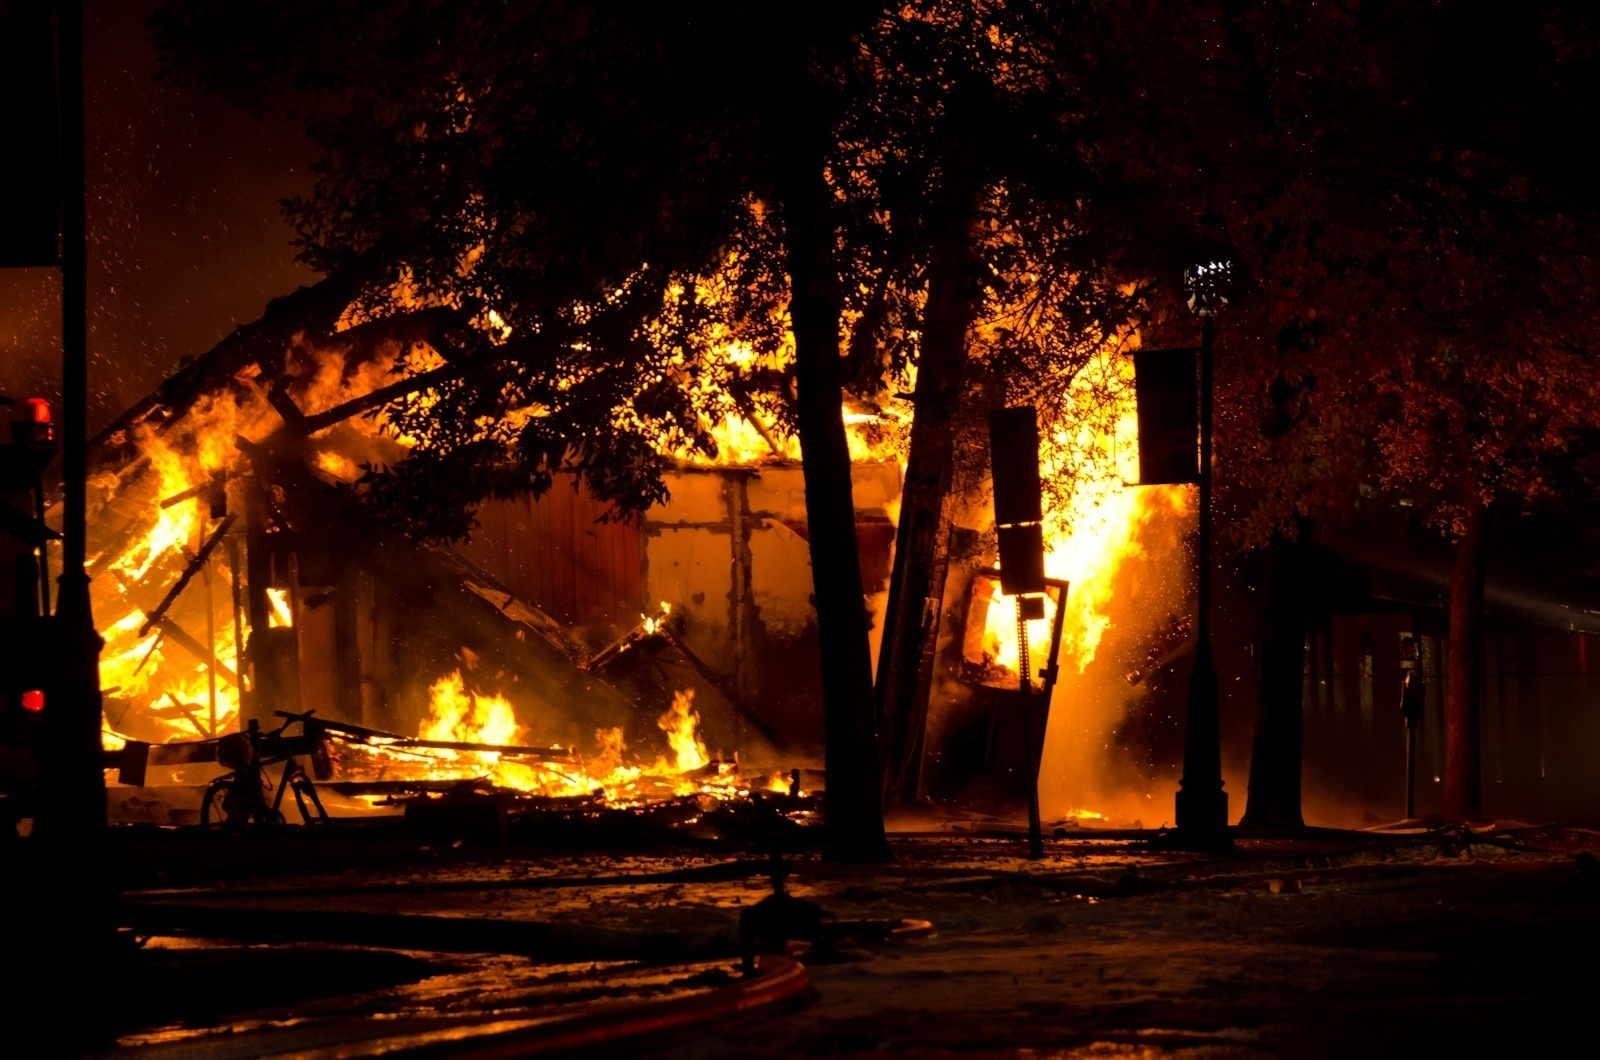fire: (137, 130, 1201, 904)
